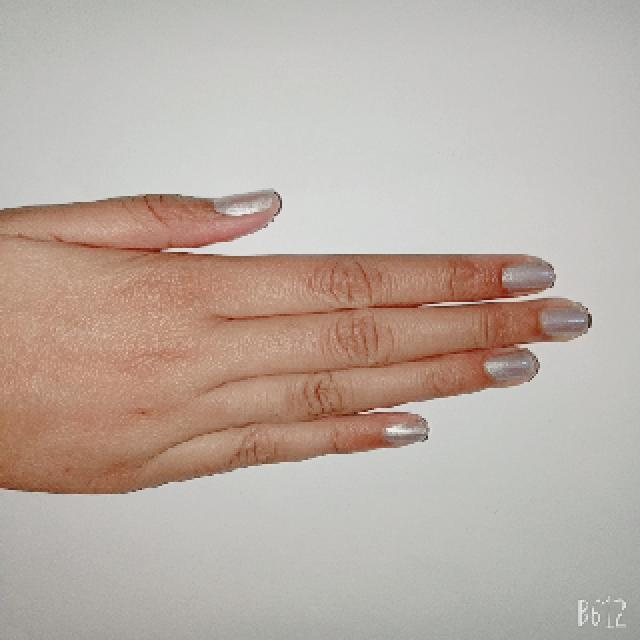Nail: (500, 259, 558, 292), (484, 350, 539, 383), (213, 188, 275, 215), (540, 306, 594, 334), (382, 419, 428, 446)
